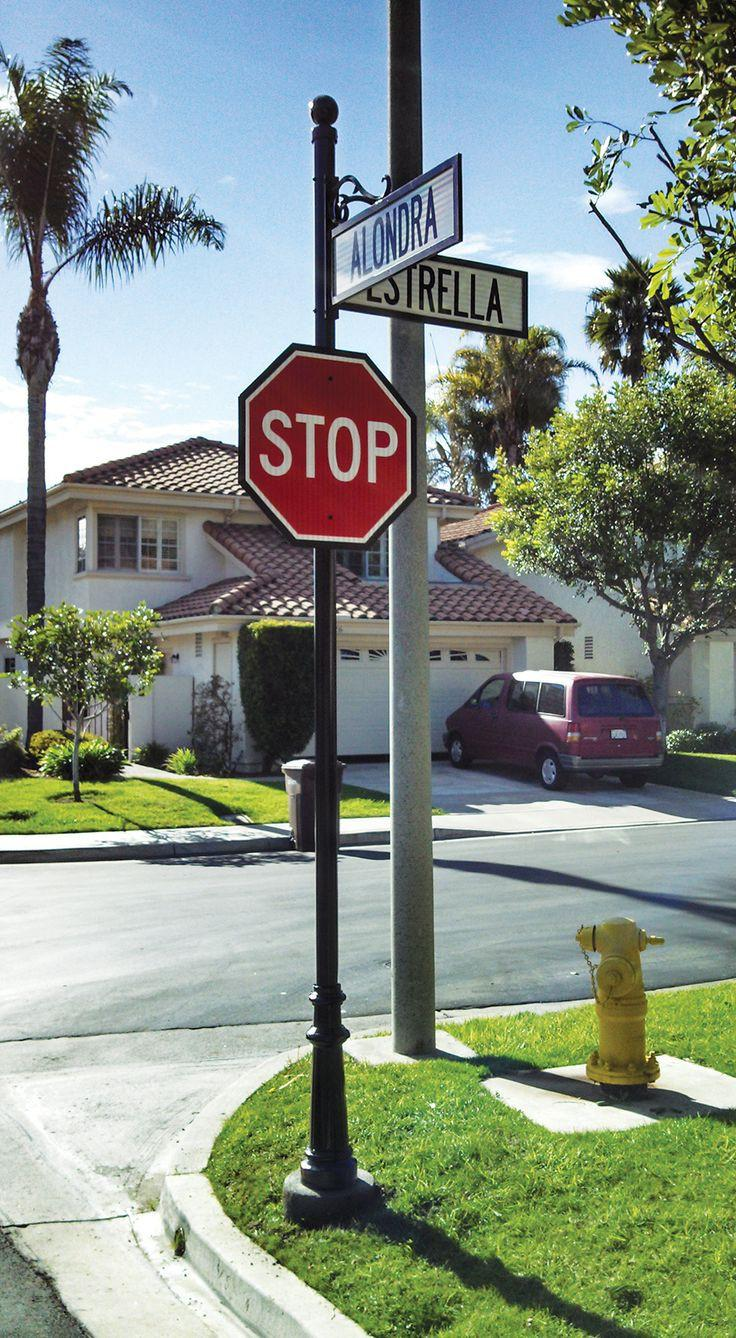Pole: (315, 551, 342, 1213)
Sign: (238, 351, 418, 544)
